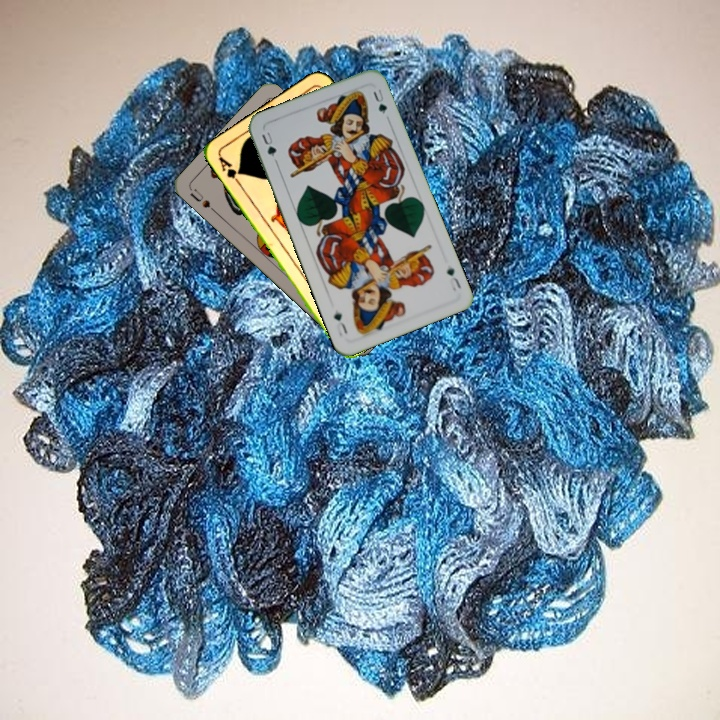GA: (214, 152, 244, 188)
GU: (257, 128, 279, 160), (442, 264, 464, 294)
SU: (186, 185, 220, 216)
